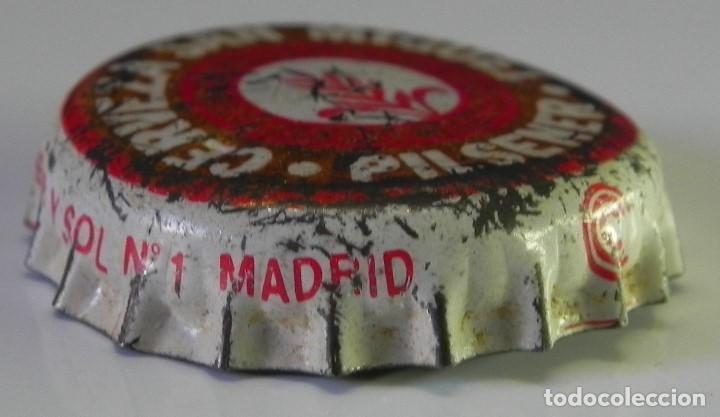metal: (25, 24, 685, 376)
